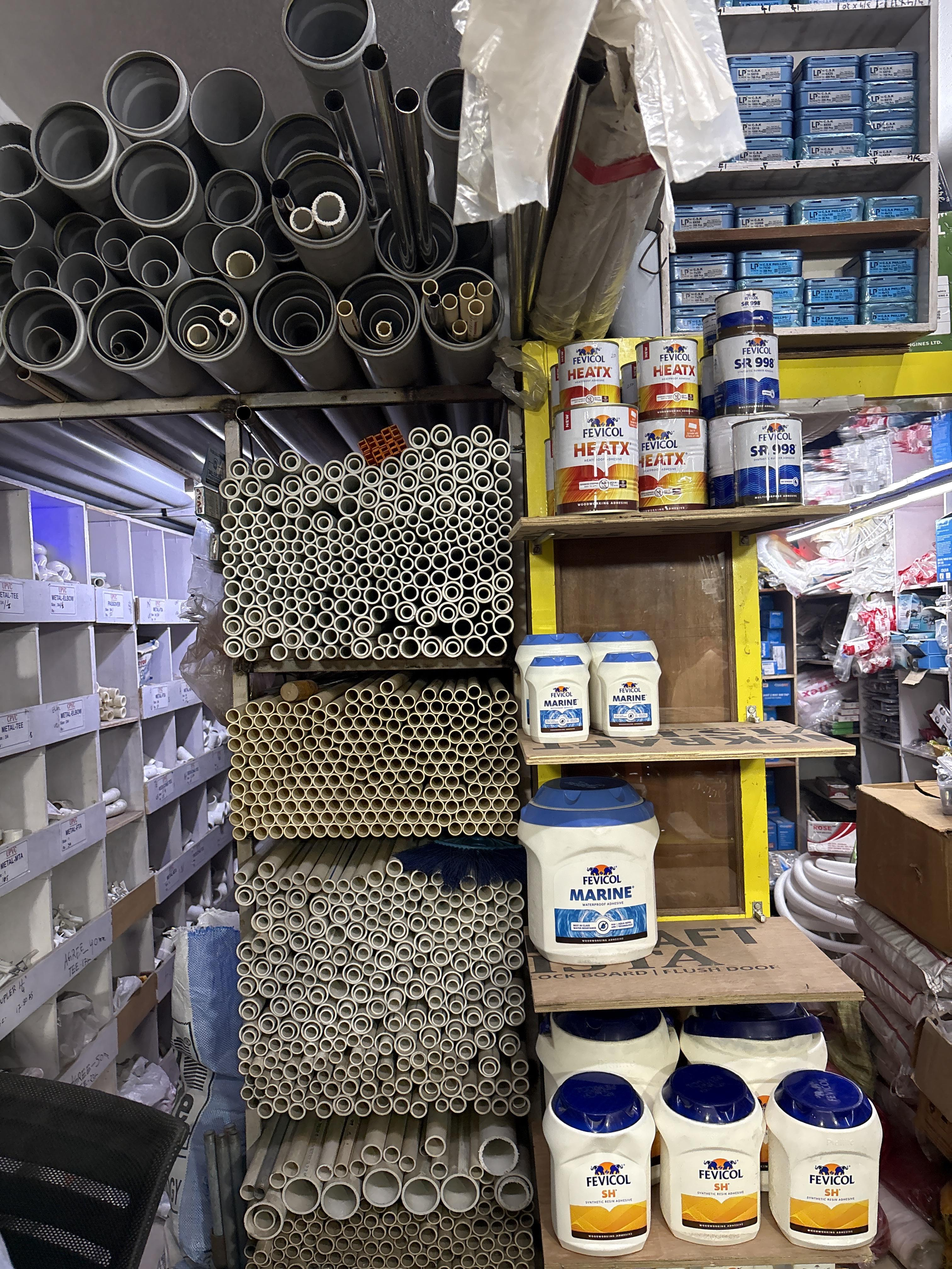Fevicol_HEATX: (552, 403, 638, 514), (638, 416, 707, 510), (634, 336, 700, 416), (558, 341, 621, 409), (544, 426, 555, 515), (621, 362, 638, 405), (550, 366, 561, 411), (550, 367, 557, 408)
